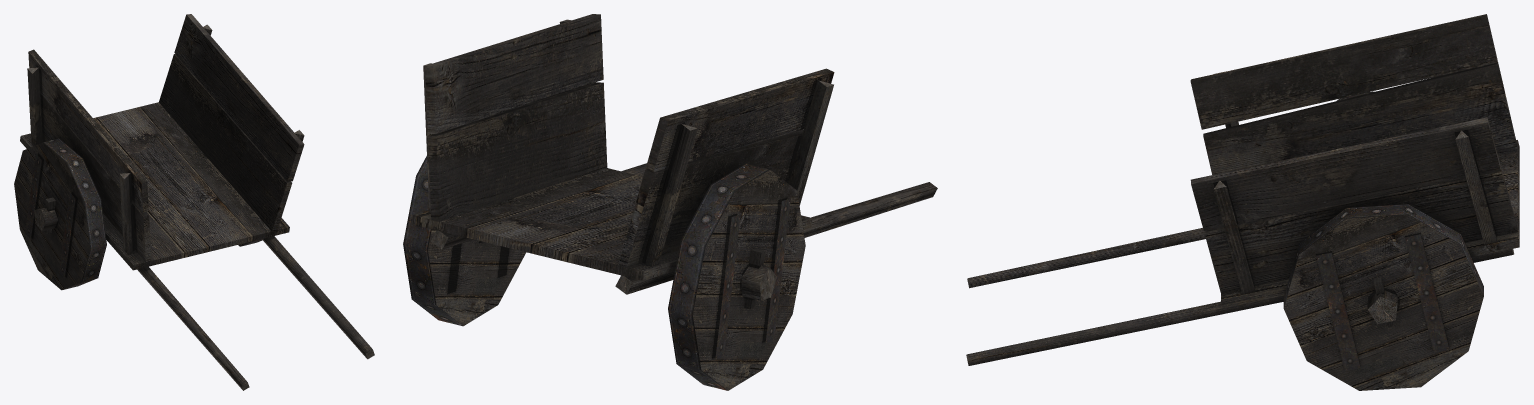
File: Wagon3_LOD1.fbx
3 views of the same model, side by side, from view 1: azimuth 30°, elevation 25°; view 2: azimuth 150°, elevation 25°; view 3: azimuth 270°, elevation 25° (orthographic). The views are drawn at different scales.
Visible parts, largest first — view 1: polySurface179; view 2: polySurface179; view 3: polySurface179.
Part boxes in pixels (box(x1,y1,x2,y2)): polySurface179: box(14, 14, 374, 390); polySurface179: box(403, 14, 937, 390); polySurface179: box(966, 14, 1519, 390).
Bounding box in the file's own units: 8.45 × 7.35 × 14.
